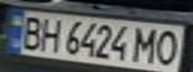2: (93, 20, 115, 60)
4: (109, 23, 133, 62), (78, 20, 100, 57)
6: (60, 19, 84, 56)
B: (15, 13, 45, 51)
H: (36, 16, 63, 53)
M: (130, 25, 163, 64)
O: (151, 27, 184, 66)
